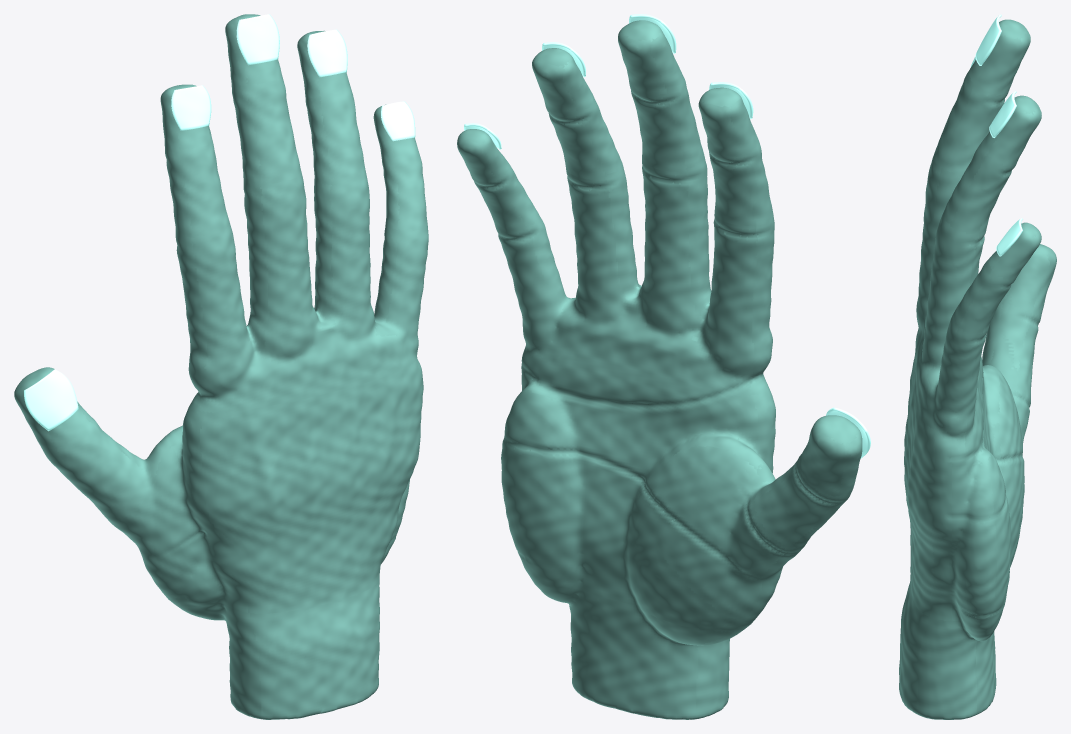
Rendered from family-08.glb.
3 views of the same model, side by side, from view 1: azimuth 30°, elevation 25°; view 2: azimuth 150°, elevation 25°; view 3: azimuth 270°, elevation 25° (orthographic). The views are drawn at different scales.
Visible parts, largest first — view 1: knuckles__knuckles_sculpt, back_of_hand__back_of_hand_sculpt, middle_sections__middle_sections_sculpt, wrist__wrist_sculpt, fingertips__fingertips_sculpt, palm__palm_sculpt, nails__thumb_claw, nails__middle_claw, nails__ring_claw, nails__index_claw, nails__pinky_claw; view 2: knuckles__knuckles_sculpt, palm__palm_sculpt, middle_sections__middle_sections_sculpt, wrist__wrist_sculpt, fingertips__fingertips_sculpt; view 3: palm__palm_sculpt, knuckles__knuckles_sculpt, middle_sections__middle_sections_sculpt, wrist__wrist_sculpt, back_of_hand__back_of_hand_sculpt, fingertips__fingertips_sculpt, nails__middle_claw, nails__ring_claw, nails__pinky_claw.
Part boxes in pixels (x1,y1,x2,y2): knuckles__knuckles_sculpt: (101, 173, 428, 595); back_of_hand__back_of_hand_sculpt: (185, 357, 423, 614); middle_sections__middle_sections_sculpt: (43, 77, 427, 514); wrist__wrist_sculpt: (175, 560, 383, 719); fingertips__fingertips_sculpt: (14, 14, 419, 452); palm__palm_sculpt: (165, 403, 410, 606); nails__thumb_claw: (24, 369, 78, 431); nails__middle_claw: (236, 14, 279, 65); nails__ring_claw: (307, 29, 347, 77); nails__index_claw: (171, 85, 211, 130); nails__pinky_claw: (381, 101, 415, 141); knuckles__knuckles_sculpt: (495, 153, 806, 622); palm__palm_sculpt: (501, 341, 772, 632); middle_sections__middle_sections_sculpt: (471, 74, 853, 547); wrist__wrist_sculpt: (531, 578, 743, 719); fingertips__fingertips_sculpt: (457, 20, 862, 496); palm__palm_sculpt: (950, 356, 1023, 632); knuckles__knuckles_sculpt: (912, 156, 1030, 501); middle_sections__middle_sections_sculpt: (933, 71, 1041, 394); wrist__wrist_sculpt: (899, 581, 997, 719); back_of_hand__back_of_hand_sculpt: (904, 370, 951, 620); fingertips__fingertips_sculpt: (968, 19, 1056, 316); nails__middle_claw: (975, 14, 1001, 65); nails__ring_claw: (989, 90, 1016, 137); nails__pinky_claw: (996, 218, 1022, 256).
Bounding box in the file's own units: 0.1312 × 0.217 × 0.0472.
Materials: 2 (1 with a texture image).
